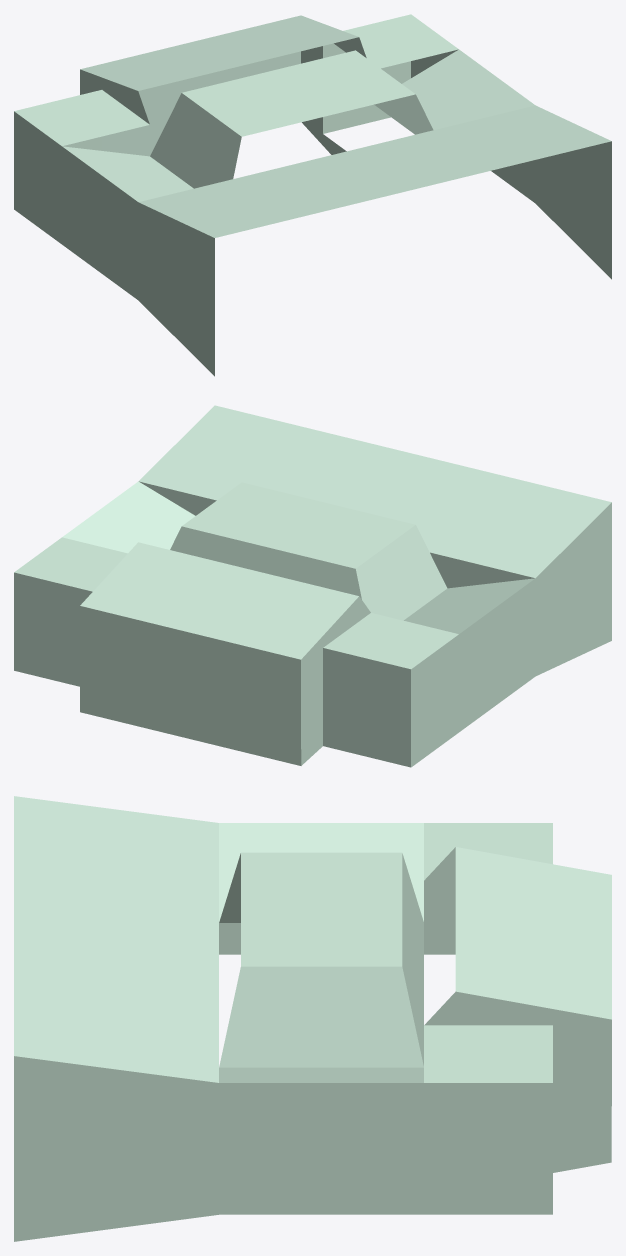
3 renders of one model, top to bottom at view 1: azimuth 30°, elevation 25°; view 2: azimuth 150°, elevation 25°; view 3: azimuth 270°, elevation 25°, orthographic. The views are drawn at different scales.
Visible parts, largest first — view 1: Object51; view 2: Object51; view 3: Object51.
Boxes of the visible parts, x1=… form: Object51: x1=14, y1=14, x2=611, y2=376; Object51: x1=14, y1=405, x2=611, y2=767; Object51: x1=14, y1=796, x2=611, y2=1241.
Size of the model in its own units: 30000 by 11217 by 29161.
